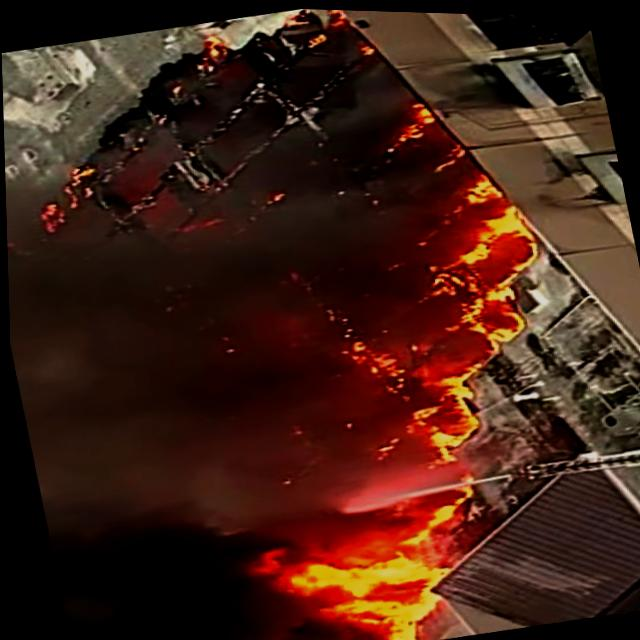fire: (282, 522, 433, 640)
smoke: (44, 500, 247, 640)
